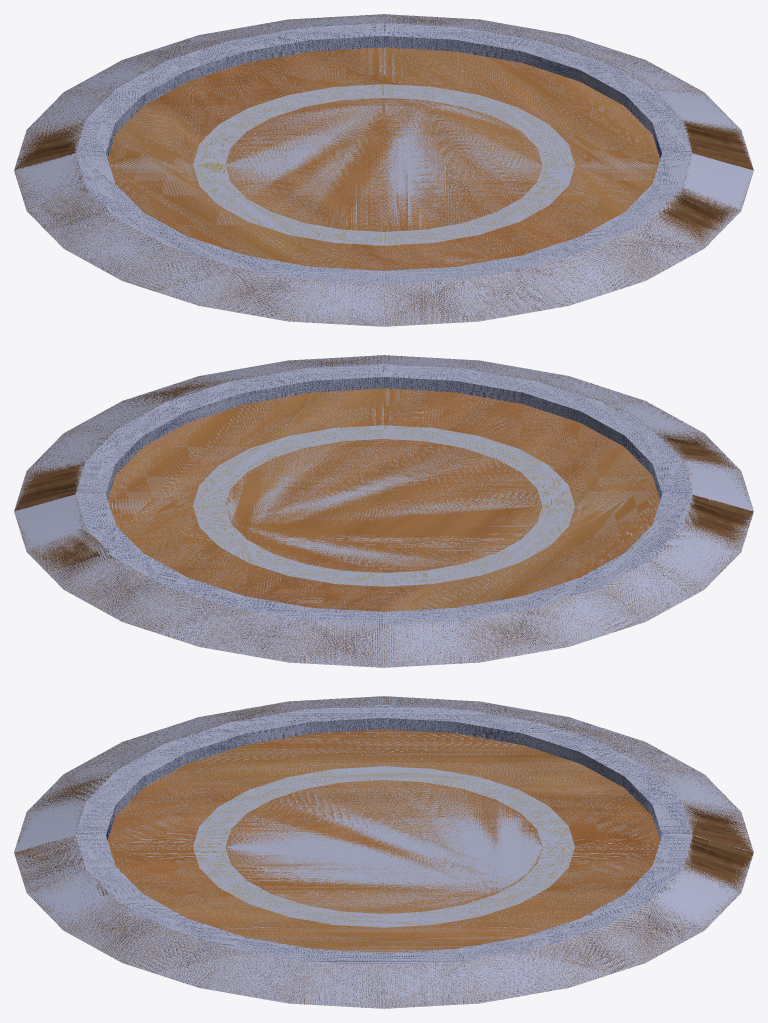
File: PiratePad.fbx
3 views of the same model, one above another, from view 1: azimuth 30°, elevation 25°; view 2: azimuth 150°, elevation 25°; view 3: azimuth 270°, elevation 25° (orthographic).
Parts seen in each view (by area): view 1: Model; view 2: Model; view 3: Model.
Boxes of the visible parts, x1,y1,x2,y2 form: Model: (14, 14, 753, 326); Model: (14, 355, 753, 667); Model: (14, 696, 753, 1008).
Bounding box in the file's own units: 75.79 × 1.93 × 75.79.
